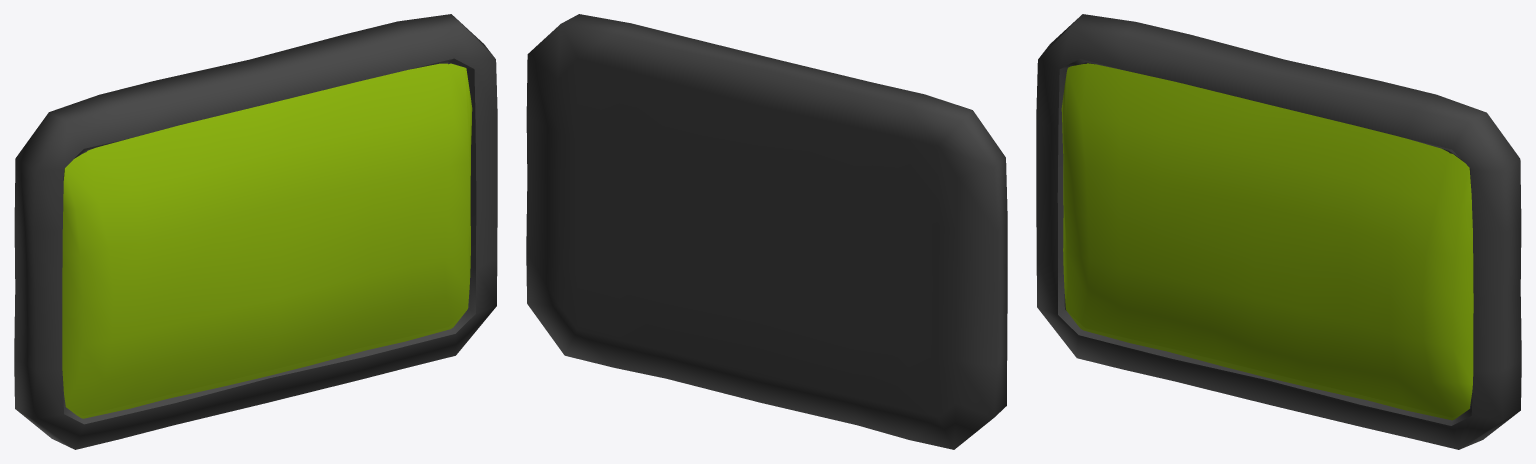
Rendered from bigScreenWithGlassNoTilt.fbx.
3 views of the same model, side by side, from view 1: azimuth 30°, elevation 25°; view 2: azimuth 150°, elevation 25°; view 3: azimuth 330°, elevation 25° (orthographic).
Parts seen in each view (by area): view 1: screenGlassNoTilt, screenNoTilt; view 2: screenNoTilt; view 3: screenGlassNoTilt, screenNoTilt.
Boxes of the visible parts, box(x1,y1,x2,y2) form: screenGlassNoTilt: box(62, 63, 472, 418); screenNoTilt: box(14, 14, 497, 449); screenNoTilt: box(526, 14, 1007, 449); screenGlassNoTilt: box(1061, 63, 1473, 420); screenNoTilt: box(1036, 14, 1521, 449).
Size of the model in its own units: 247 by 167 by 30.35.
